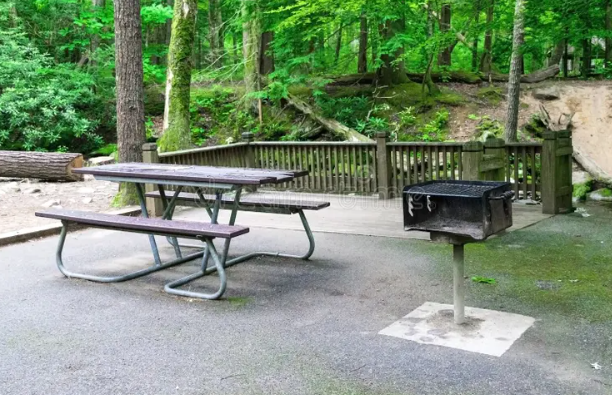obstacle: (42, 151, 328, 314)
